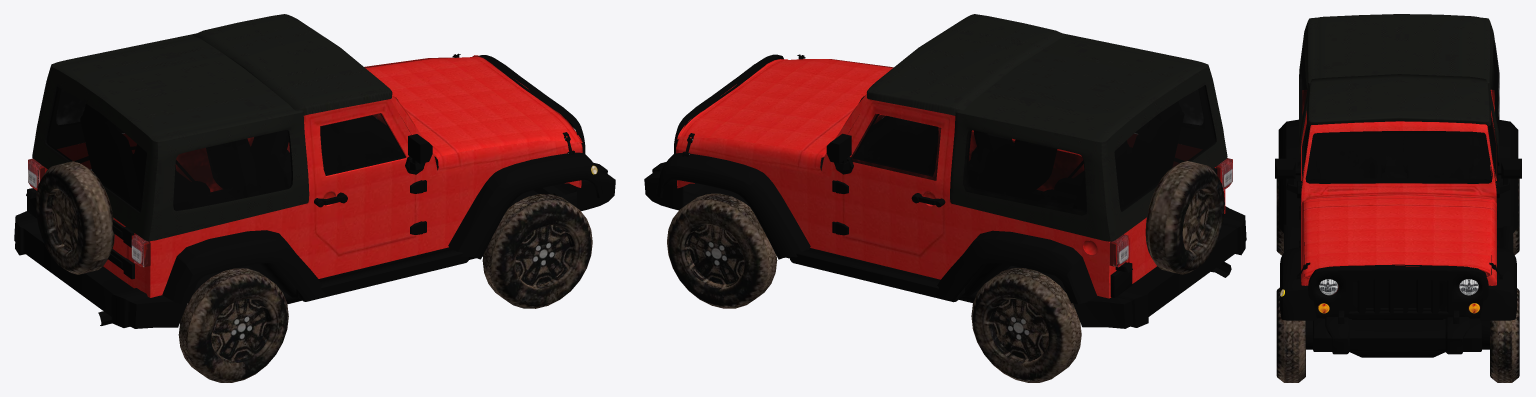
Rendered from offroad-driving.glb.
3 views of the same model, side by side, from view 1: azimuth 30°, elevation 25°; view 2: azimuth 150°, elevation 25°; view 3: azimuth 270°, elevation 25° (orthographic). The views are drawn at different scales.
Parts seen in each view (by area): view 1: body_14, body_24, body_19, body_12, body_11, wheel_2_2, wheel_0_1, body_2, body_32, body_30, body_33, body_16 (+8 smaller); view 2: body_14, body_24, body_19, body_12, body_11, wheel_3_2, wheel_1_1, body_2, body_36, body_25, body_33, body_37 (+9 smaller); view 3: body_12, body_14, body_11, body_19, body_26, body_27, body_16, body_13, wheel_0_1, wheel_1_1, body_21, body_5 (+13 smaller).
Part boxes in pixels (box(x1,y1,x2,y2)): body_14: box(32, 33, 309, 241); body_24: box(44, 57, 582, 297); body_19: box(46, 86, 411, 212); body_12: box(365, 55, 582, 158); body_11: box(193, 14, 392, 115); wheel_2_2: box(178, 268, 288, 382); wheel_0_1: box(482, 194, 592, 308); body_2: box(35, 161, 114, 274); body_32: box(162, 230, 325, 304); body_30: box(448, 152, 602, 259); body_33: box(14, 211, 187, 328); body_16: box(45, 53, 575, 279); body_14: box(950, 33, 1227, 241); body_24: box(676, 59, 1225, 298); body_19: box(849, 85, 1214, 215); body_12: box(677, 59, 892, 157); body_11: box(866, 14, 1066, 115); wheel_3_2: box(971, 268, 1081, 382); wheel_1_1: box(667, 193, 777, 308); body_2: box(1145, 161, 1224, 274); body_36: box(934, 230, 1096, 304); body_25: box(656, 152, 810, 259); body_33: box(1073, 206, 1246, 328); body_37: box(790, 248, 964, 302); body_12: box(1303, 194, 1491, 278); body_14: box(1299, 14, 1498, 156); body_11: box(1307, 74, 1490, 126); body_19: box(1302, 42, 1499, 180); body_26: box(1308, 264, 1488, 319); body_27: box(1313, 317, 1481, 357); body_16: box(1275, 42, 1521, 279); body_13: box(1301, 121, 1496, 208); wheel_0_1: box(1276, 287, 1305, 382); wheel_1_1: box(1490, 288, 1519, 382); body_21: box(1320, 136, 1382, 178); body_5: box(1350, 279, 1446, 311).
Size of the model in its own units: 2 by 0.9389 by 0.9917.
Materials: 14 (6 with a texture image).
